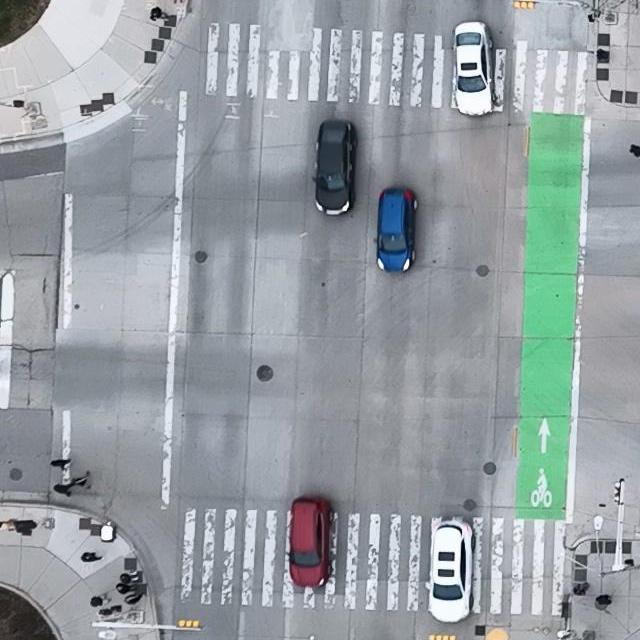car: (425, 520, 476, 623), (312, 119, 357, 216), (286, 496, 333, 588), (452, 21, 496, 116), (374, 185, 419, 274)
